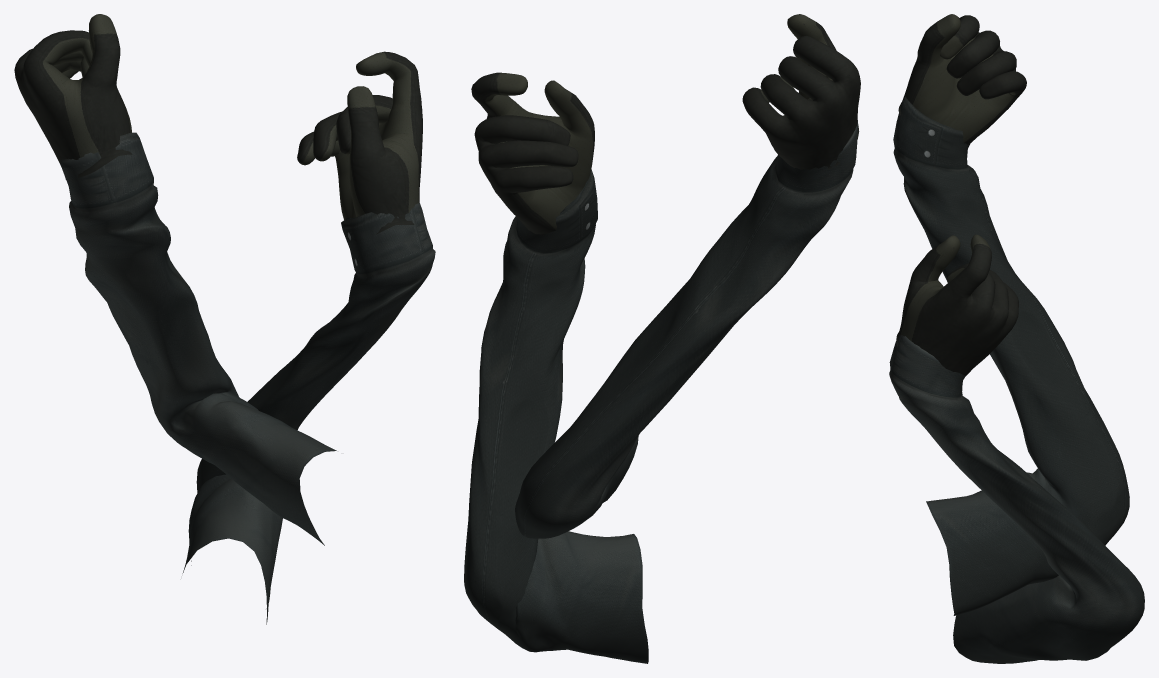
The model's file is hands_ladder.glb.
3 views of the same model, side by side, from view 1: azimuth 30°, elevation 25°; view 2: azimuth 150°, elevation 25°; view 3: azimuth 270°, elevation 25° (orthographic). The views are drawn at different scales.
Parts seen in each view (by area): view 1: LeftArmMesh, RightArmMesh; view 2: RightArmMesh, LeftArmMesh; view 3: LeftArmMesh, RightArmMesh.
Boxes of the visible parts, x1,y1,x2,y2 form: LeftArmMesh: (14,14,336,545); RightArmMesh: (182,51,435,624); RightArmMesh: (464,72,648,663); LeftArmMesh: (515,14,860,538); LeftArmMesh: (893,14,1129,615); RightArmMesh: (889,234,1144,663).
Size of the model in its own units: 0.6781 by 1.14 by 0.4461.
4 materials, 4 textured.
